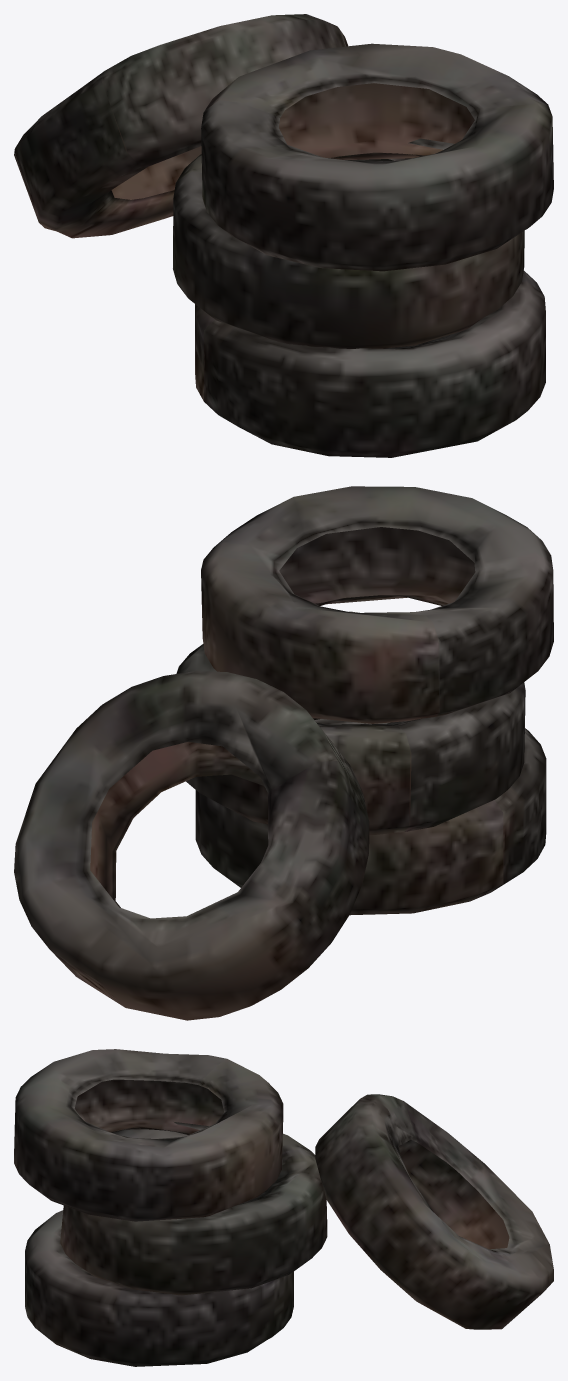
Rendered from p_tires.glb.
3 renders of one model, top to bottom at view 1: azimuth 30°, elevation 25°; view 2: azimuth 150°, elevation 25°; view 3: azimuth 270°, elevation 25°, orthographic. The views are drawn at different scales.
Visible parts, largest first — view 1: defaultMaterial; view 2: defaultMaterial; view 3: defaultMaterial.
Boxes of the visible parts, box(x1,y1,x2,y2) form: defaultMaterial: box(14, 14, 553, 457); defaultMaterial: box(14, 486, 553, 1020); defaultMaterial: box(14, 1049, 553, 1366).
Size of the model in its own units: 1 by 0.9073 by 2.
Materials: 1 (1 with a texture image).
